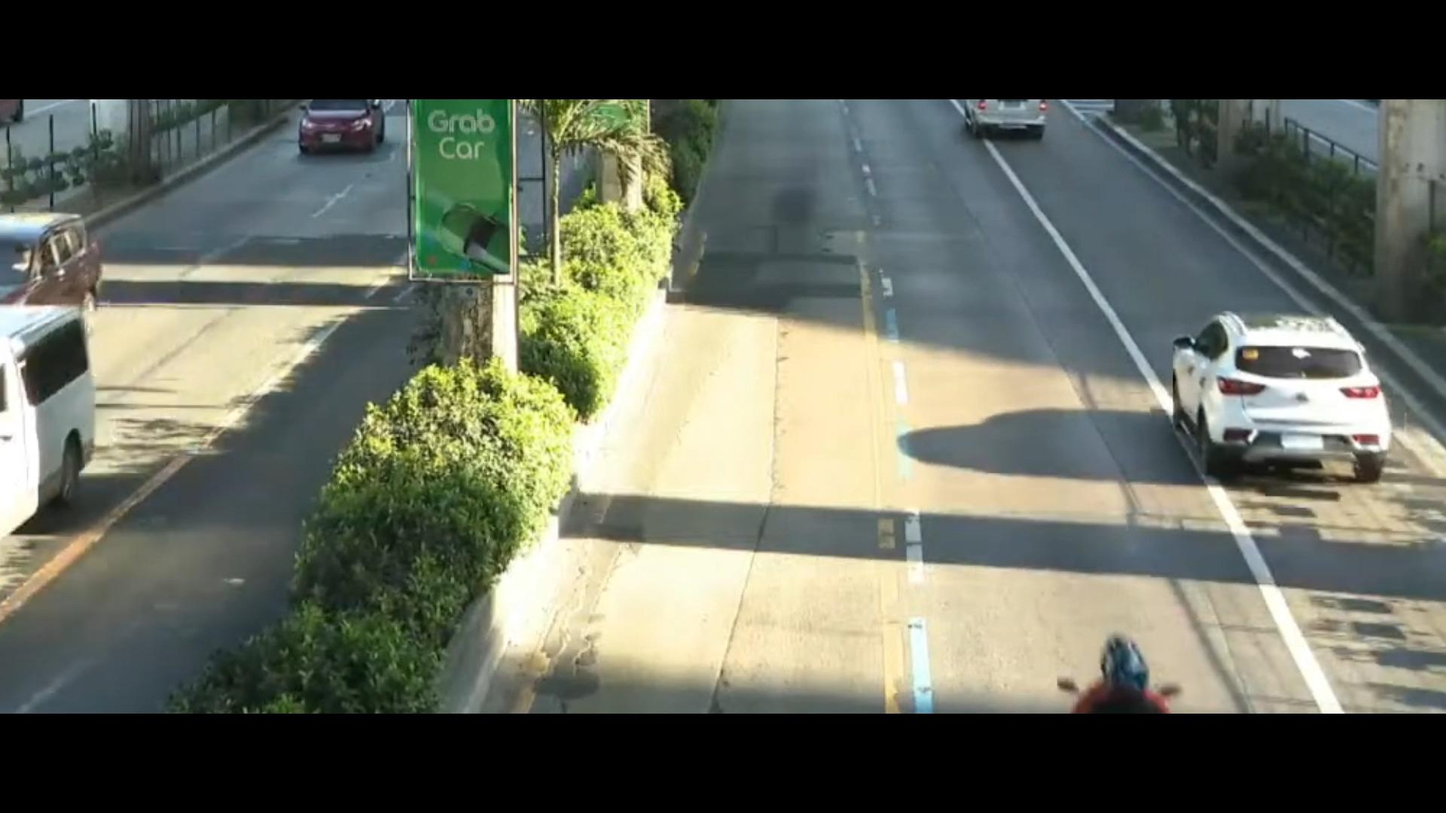Motorcycle: (1066, 633, 1183, 714)
SUV: (1168, 268, 1414, 483), (0, 192, 123, 328)
Sedan: (282, 101, 393, 147)
Van: (0, 313, 110, 536)
